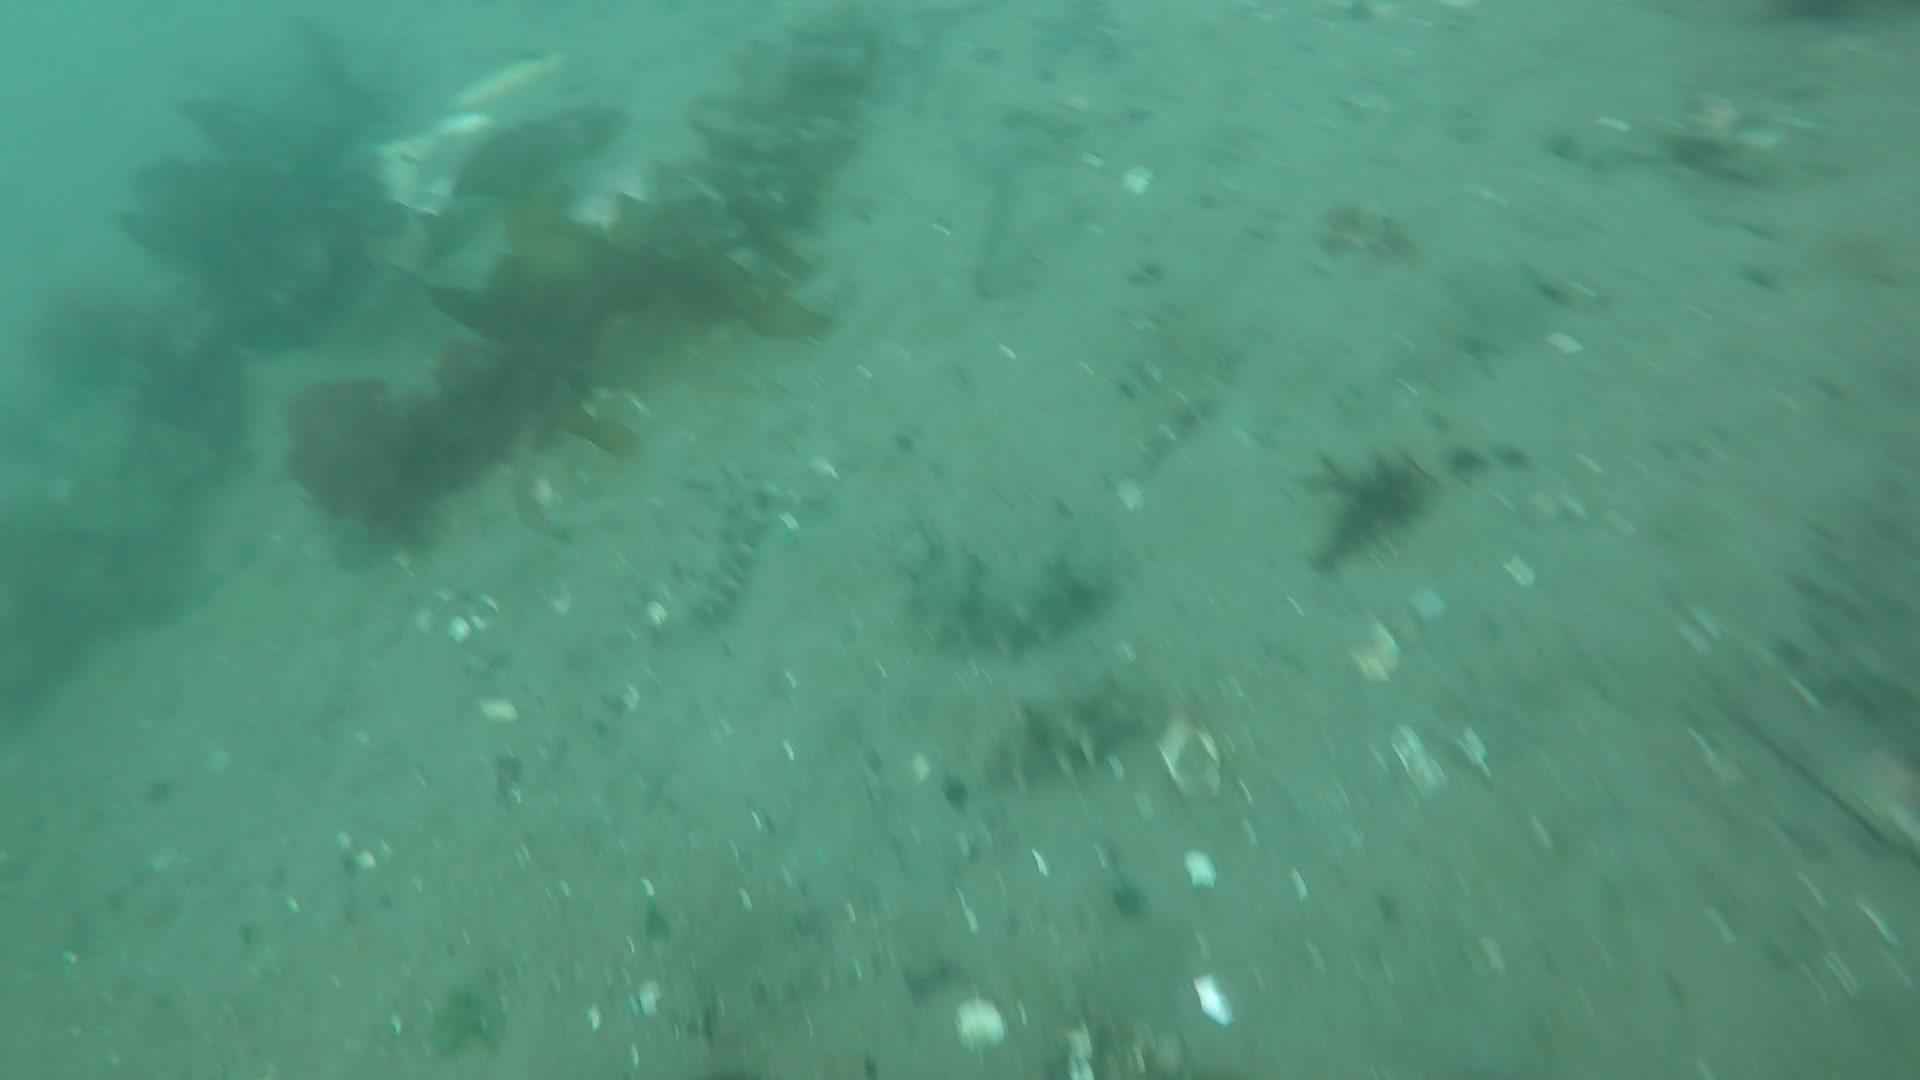holothurian: (882, 522, 1110, 667), (960, 667, 1156, 800), (675, 460, 777, 632)
